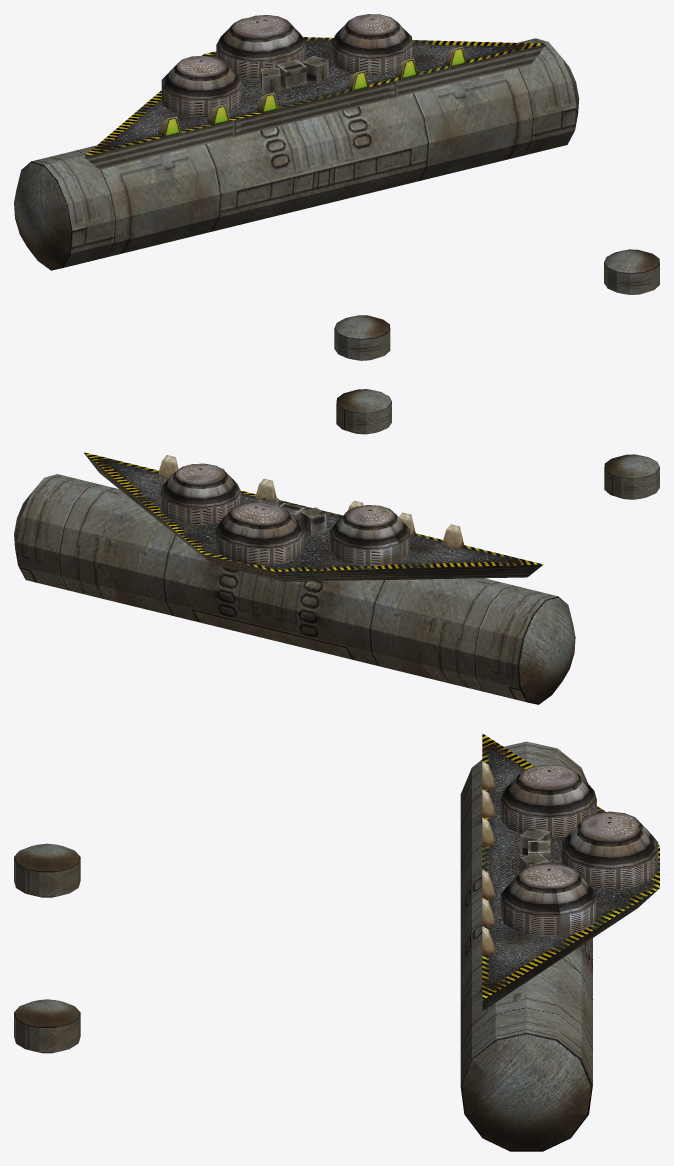
Rendered from pad_ship.dae.
The picture shows the model from 3 angles, top to bottom: view 1: azimuth 30°, elevation 25°; view 2: azimuth 150°, elevation 25°; view 3: azimuth 270°, elevation 25°; orthographic projection. The views are drawn at different scales.
Parts seen in each view (by area): view 1: base, float_l, float_r; view 2: base, float_l, float_r; view 3: base, float_r, float_l.
Boxes of the visible parts, left/top/right/bottom form: base: left=14, top=14, right=579, bottom=270; float_l: left=334, top=315, right=390, bottom=360; float_r: left=604, top=249, right=659, bottom=294; base: left=14, top=452, right=575, bottom=704; float_l: left=604, top=454, right=659, bottom=499; float_r: left=336, top=389, right=391, bottom=434; base: left=460, top=733, right=659, bottom=1151; float_r: left=14, top=999, right=80, bottom=1053; float_l: left=14, top=843, right=80, bottom=897.
Bounding box in the file's own units: 133 × 116 × 37.03.
